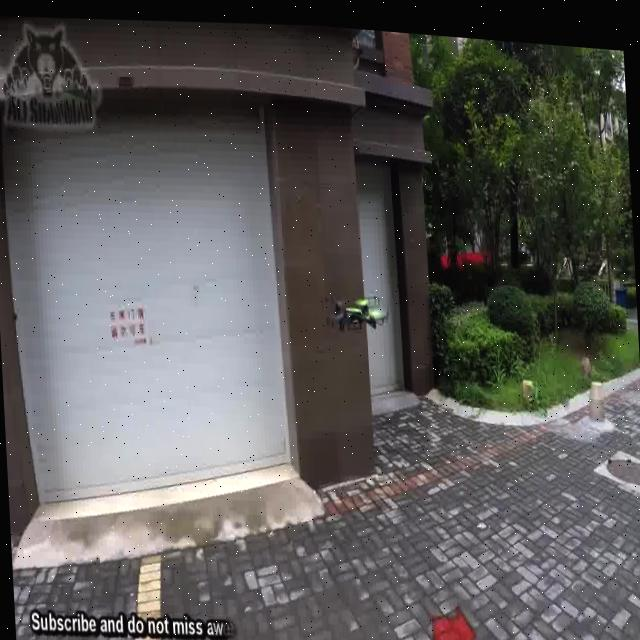drone: (318, 267, 392, 342)
